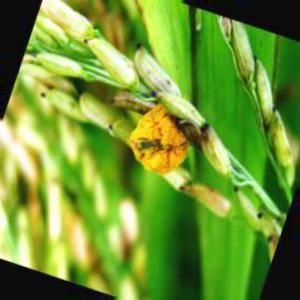Leaf_Scald: (135, 106, 188, 178)
